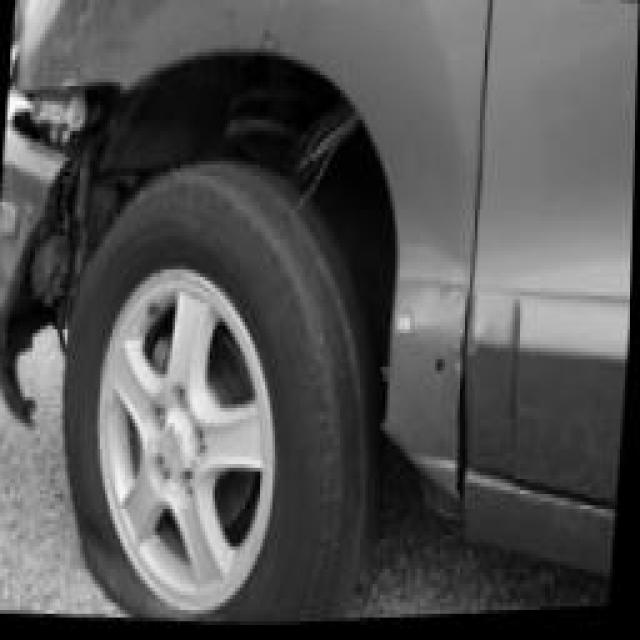Bumper: (0, 71, 83, 438)
Fender: (375, 412, 471, 558)
